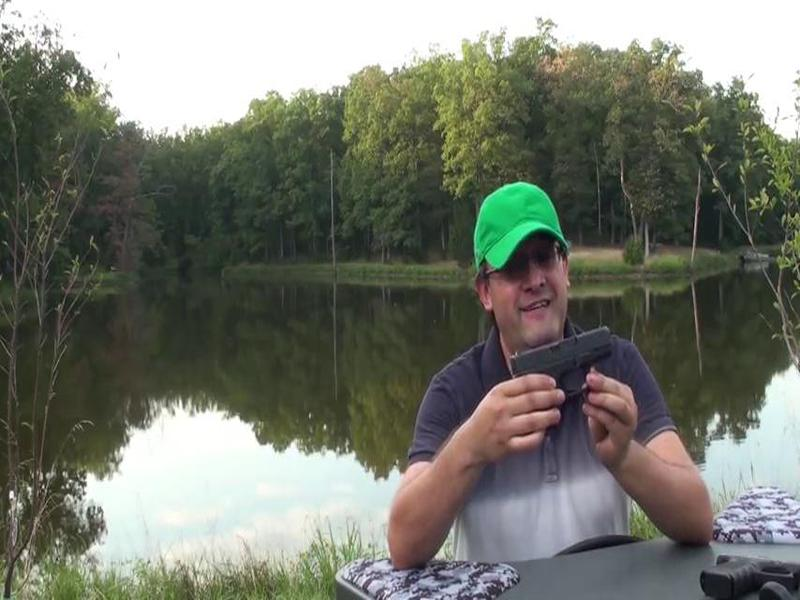Pistola: (482, 320, 636, 450)
